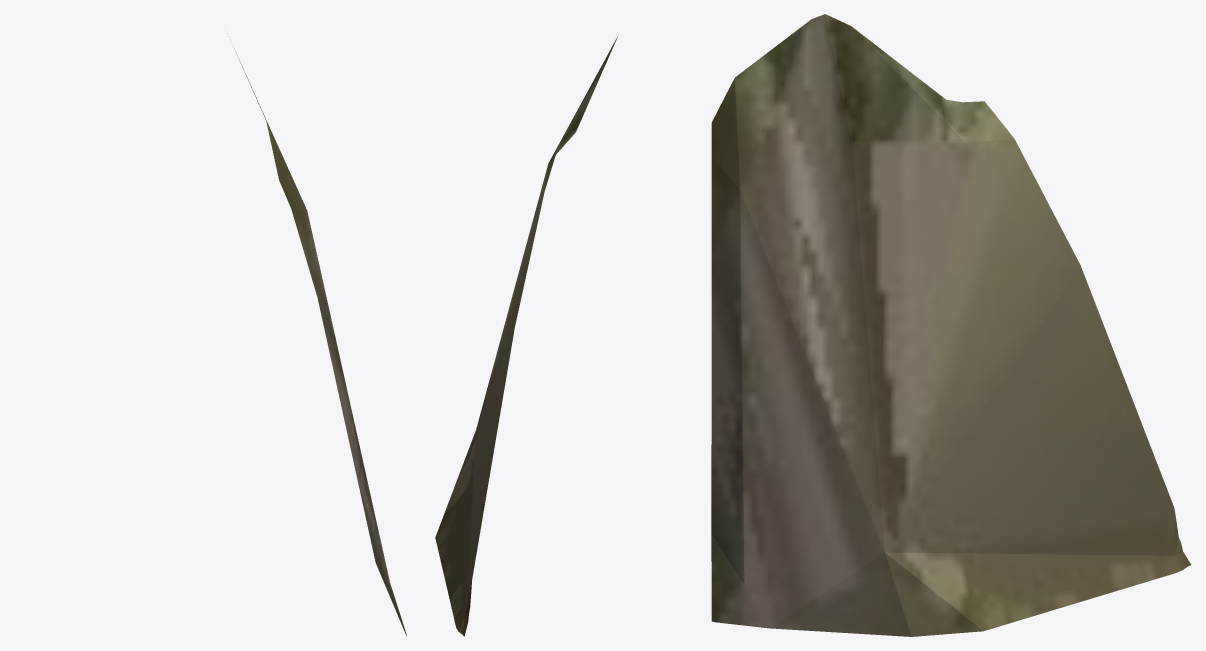
3 renders of one model, left to right at view 1: azimuth 30°, elevation 25°; view 2: azimuth 150°, elevation 25°; view 3: azimuth 270°, elevation 25°, orthographic. The views are drawn at different scales.
Bounding box in the file's own units: 0.2465 × 0.8787 × 0.6938.
1 material, 1 textured.
